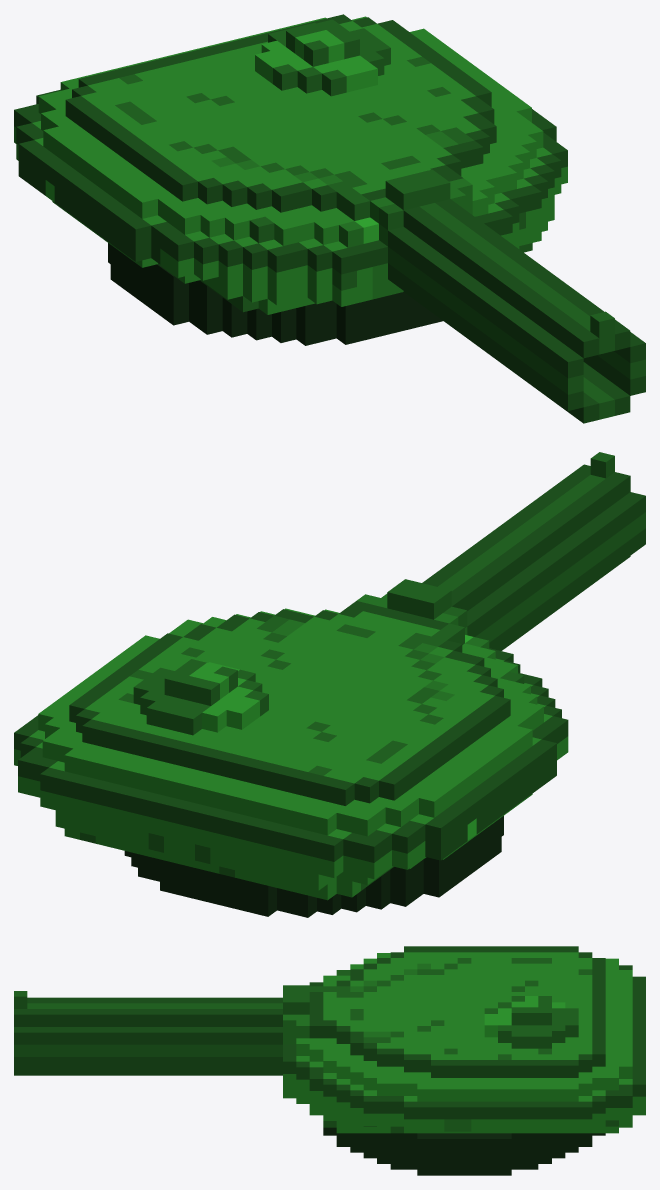
Rendered from Tank-7.obj.
The picture shows the model from 3 angles, top to bottom: view 1: azimuth 30°, elevation 25°; view 2: azimuth 150°, elevation 25°; view 3: azimuth 270°, elevation 25°; orthographic projection. The views are drawn at different scales.
Bounding box in the file's own units: 2.7 × 1.1 × 4.7.
Materials: 1 (1 with a texture image).
